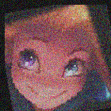Zoe: (5, 2, 110, 110)
